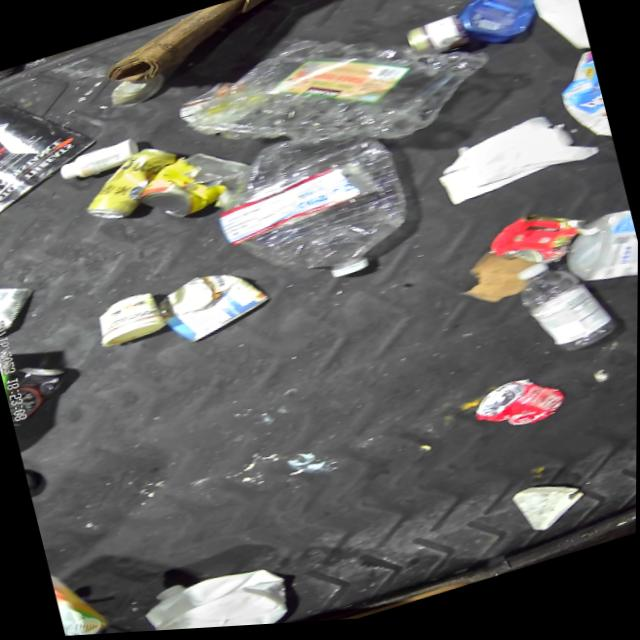can: (131, 140, 258, 230), (75, 140, 187, 229), (484, 204, 594, 286), (469, 372, 571, 446), (1, 355, 73, 426), (92, 289, 165, 350), (406, 16, 469, 66), (174, 81, 237, 124), (0, 273, 39, 331)
milk_jug: (138, 554, 297, 633), (558, 213, 639, 304)
plastic_bottle: (204, 112, 420, 311), (513, 249, 623, 369)
